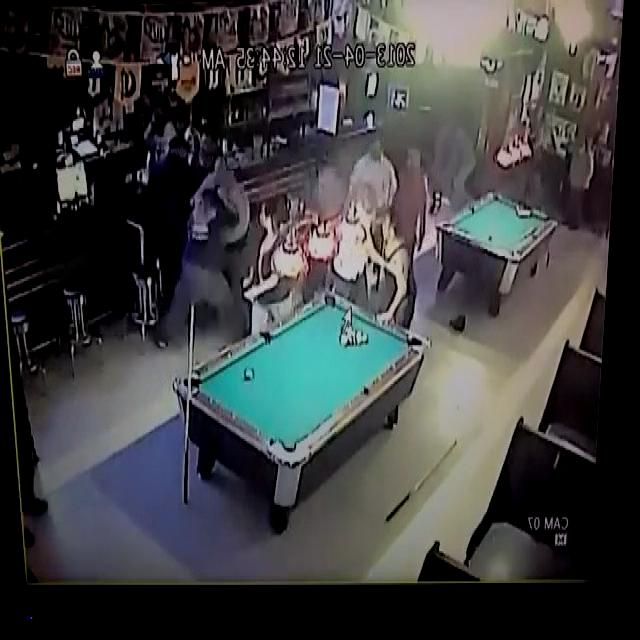fight: (153, 158, 250, 356), (331, 188, 412, 333)
